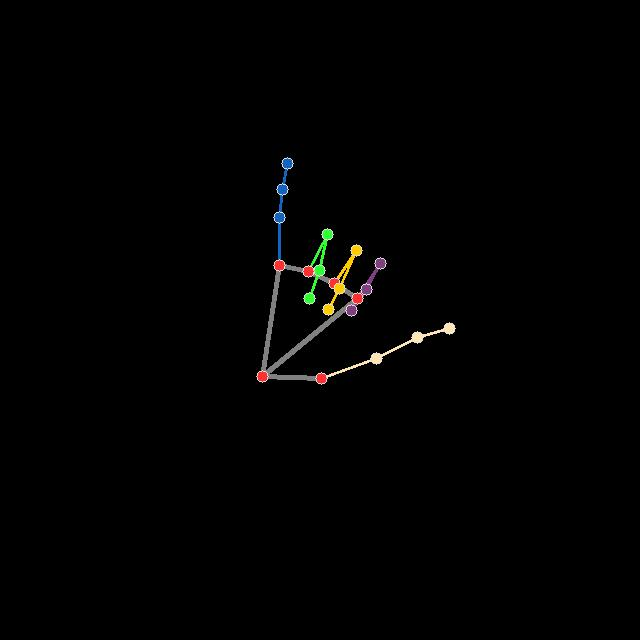skr: (254, 155, 456, 386)
